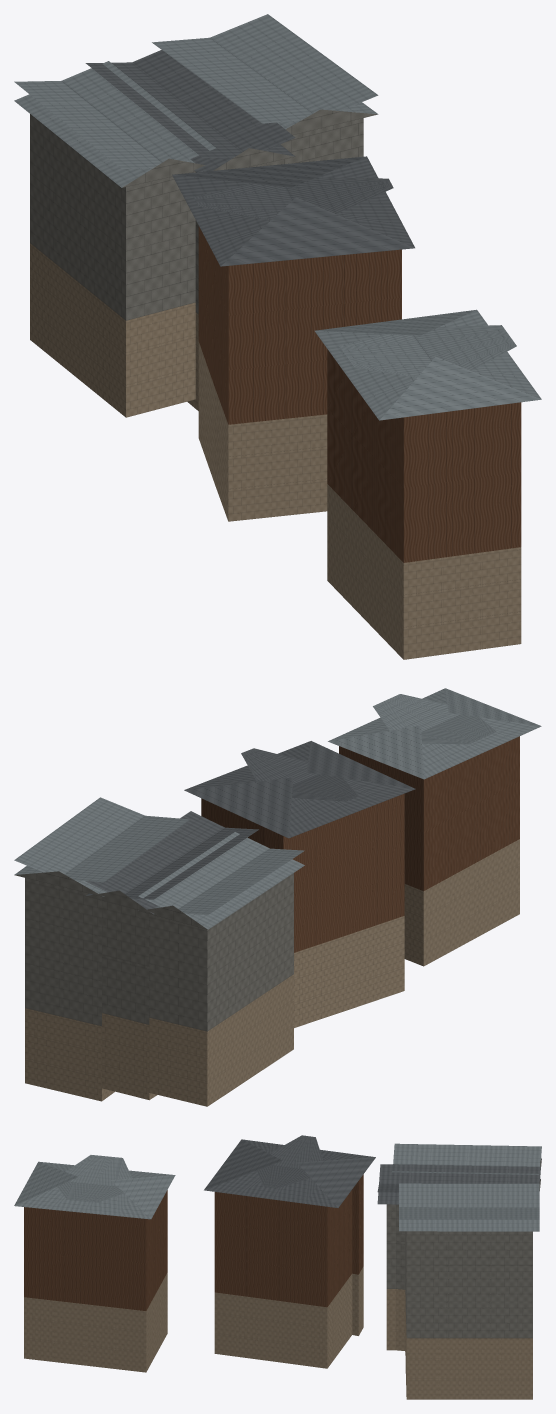
File: bld_c-13_27_482.gltf
3 views of the same model, one above another, from view 1: azimuth 30°, elevation 25°; view 2: azimuth 150°, elevation 25°; view 3: azimuth 270°, elevation 25° (orthographic). The views are drawn at different scales.
Parts seen in each view (by area): view 1: bld_c-13_27_482; view 2: bld_c-13_27_482; view 3: bld_c-13_27_482.
Part boxes in pixels (box(x1,y1,x2,y2)): bld_c-13_27_482: box(14, 14, 541, 659); bld_c-13_27_482: box(14, 688, 541, 1106); bld_c-13_27_482: box(14, 1135, 541, 1399).
Bounding box in the file's own units: 15.66 × 15.9 × 39.75.
Materials: 6 (6 with a texture image).
